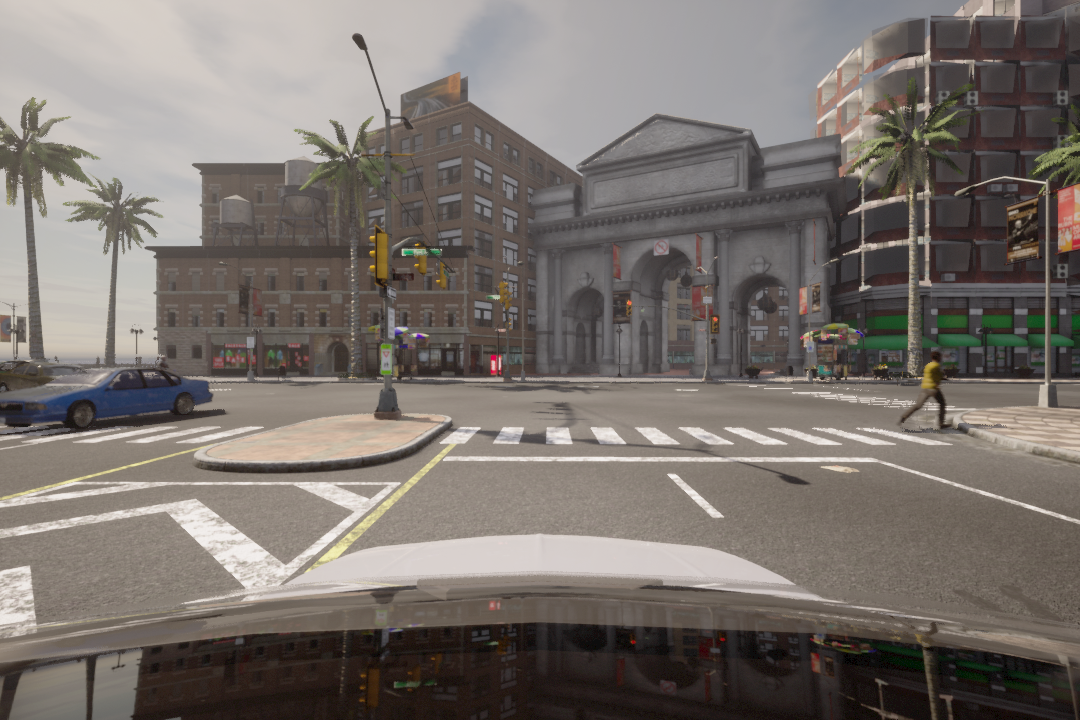TrafficLight: (711, 314, 722, 335), (624, 298, 633, 317)
TrafficSign: (652, 237, 670, 255)
walkside: (443, 424, 972, 458), (1, 420, 264, 447)
